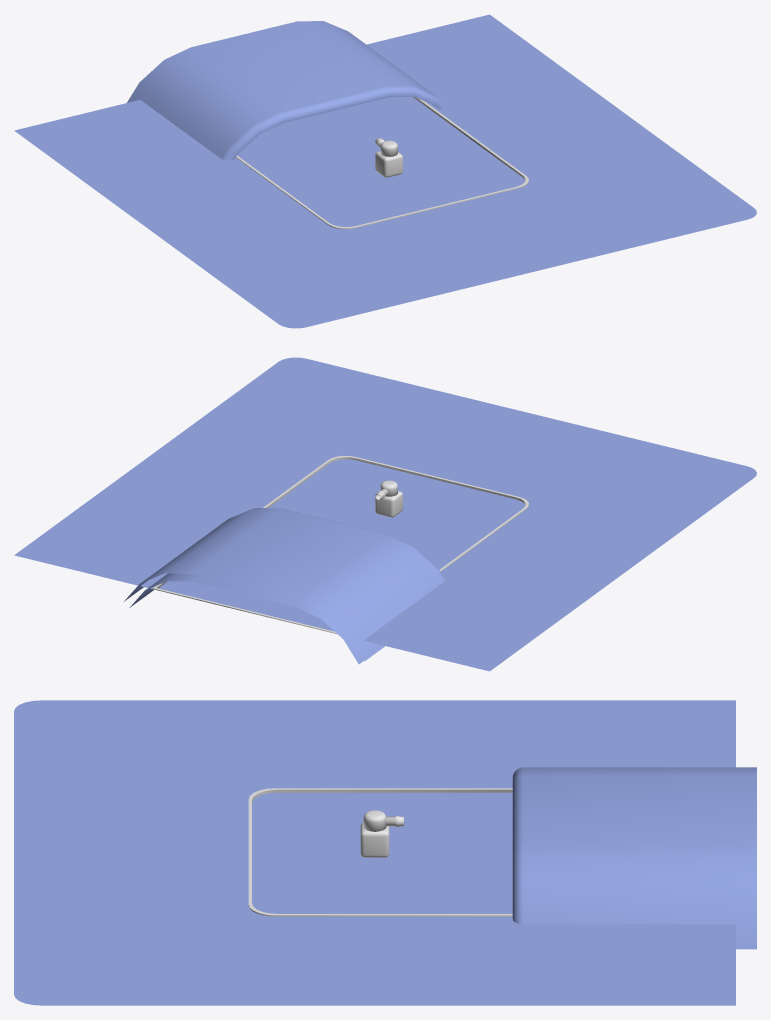
Rendered from bruhblock.fbx.
3 views of the same model, one above another, from view 1: azimuth 30°, elevation 25°; view 2: azimuth 150°, elevation 25°; view 3: azimuth 270°, elevation 25° (orthographic). The views are drawn at different scales.
Parts seen in each view (by area): view 1: Plane, Cube; view 2: Plane, Cube; view 3: Plane, Cube, Cube.001.
Part boxes in pixels (left/top/right/bottom): Plane: left=14, top=14, right=756, bottom=328; Cube: left=375, top=151, right=402, bottom=177; Plane: left=14, top=357, right=756, bottom=671; Cube: left=375, top=491, right=402, bottom=517; Plane: left=14, top=700, right=756, bottom=1005; Cube: left=360, top=822, right=389, bottom=857; Cube.001: left=363, top=810, right=403, bottom=831.
Bounding box in the file's own units: 5000 × 498 × 5145.
